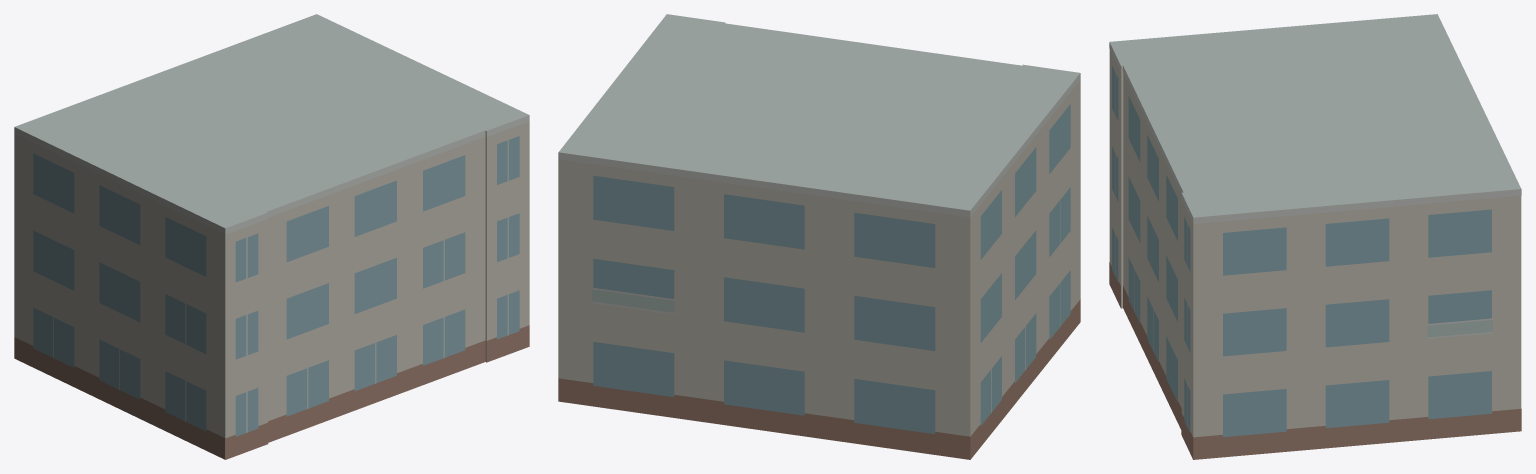
Rendered from survey-upis-32606663.glb.
3 renders of one model, left to right at view 1: azimuth 30°, elevation 25°; view 2: azimuth 150°, elevation 25°; view 3: azimuth 270°, elevation 25°, orthographic. The views are drawn at different scales.
Visible parts, largest first — view 1: survey-upis-32606663.tmp; view 2: survey-upis-32606663.tmp; view 3: survey-upis-32606663.tmp.
Boxes of the visible parts, x1,y1,x2,y2 form: survey-upis-32606663.tmp: (14, 14, 529, 459); survey-upis-32606663.tmp: (558, 14, 1080, 459); survey-upis-32606663.tmp: (1109, 14, 1521, 459).
Bounding box in the file's own units: 16.23 × 9 × 13.88.
